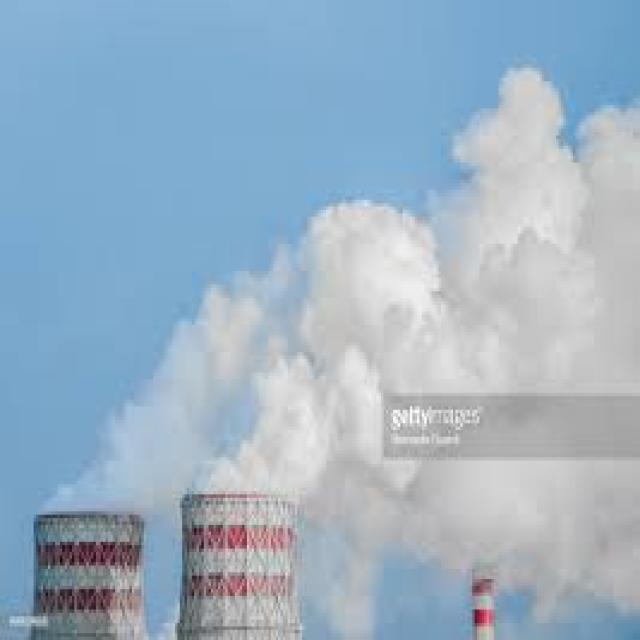Smoke: (37, 65, 640, 640)
